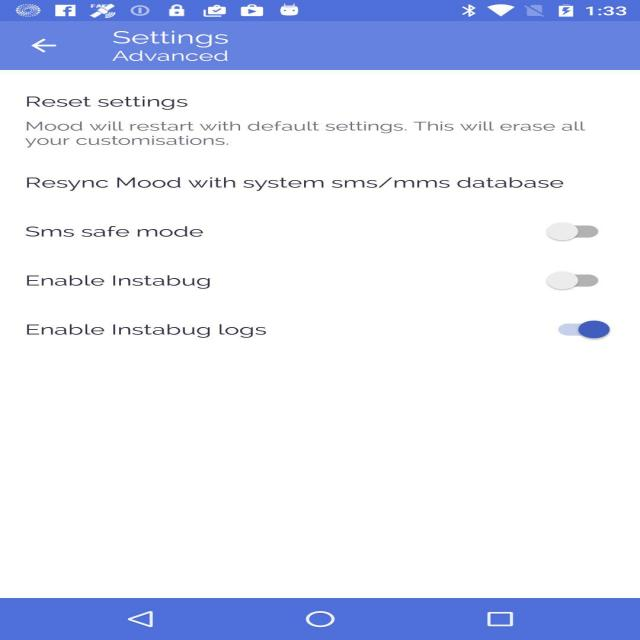text: (26, 87, 353, 364)
